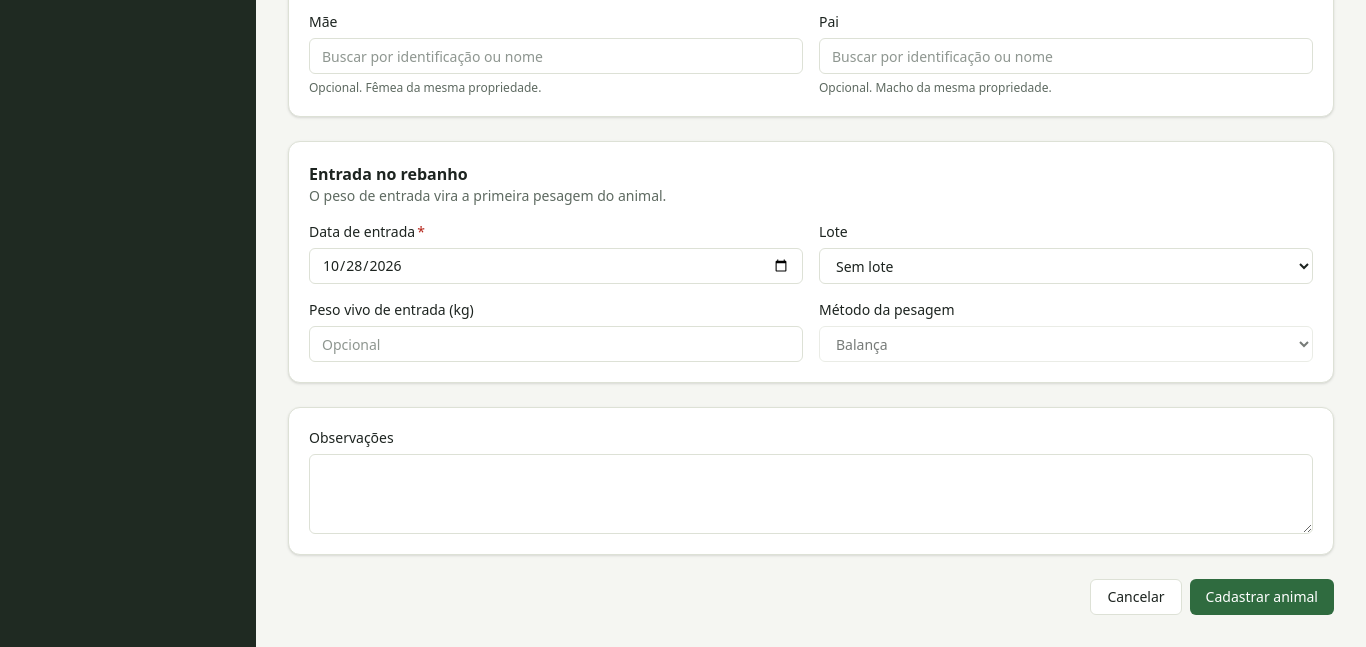
telas do rebanho › formulário de animal mostra erros e não envia dados inválidos
The image size is (1366, 647).
(page scrolled)
Click the button "Cadastrar animal". click: {"x": 1262, "y": 597}
box: [1190,579,1334,615]
(page scrolled)
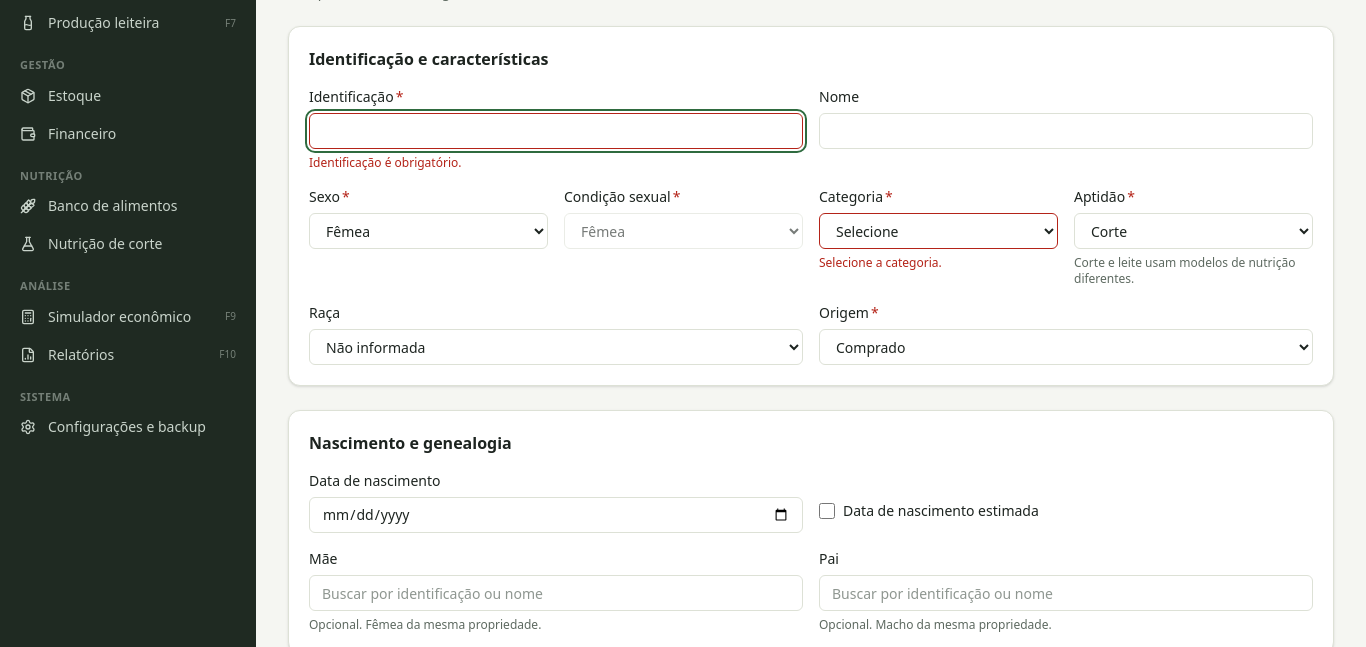
Expected: the text "Identificação é obrigatório." is shown, [309,154,462,171]
Expected: the text "Selecione a categoria." is shown, [819,254,942,271]
